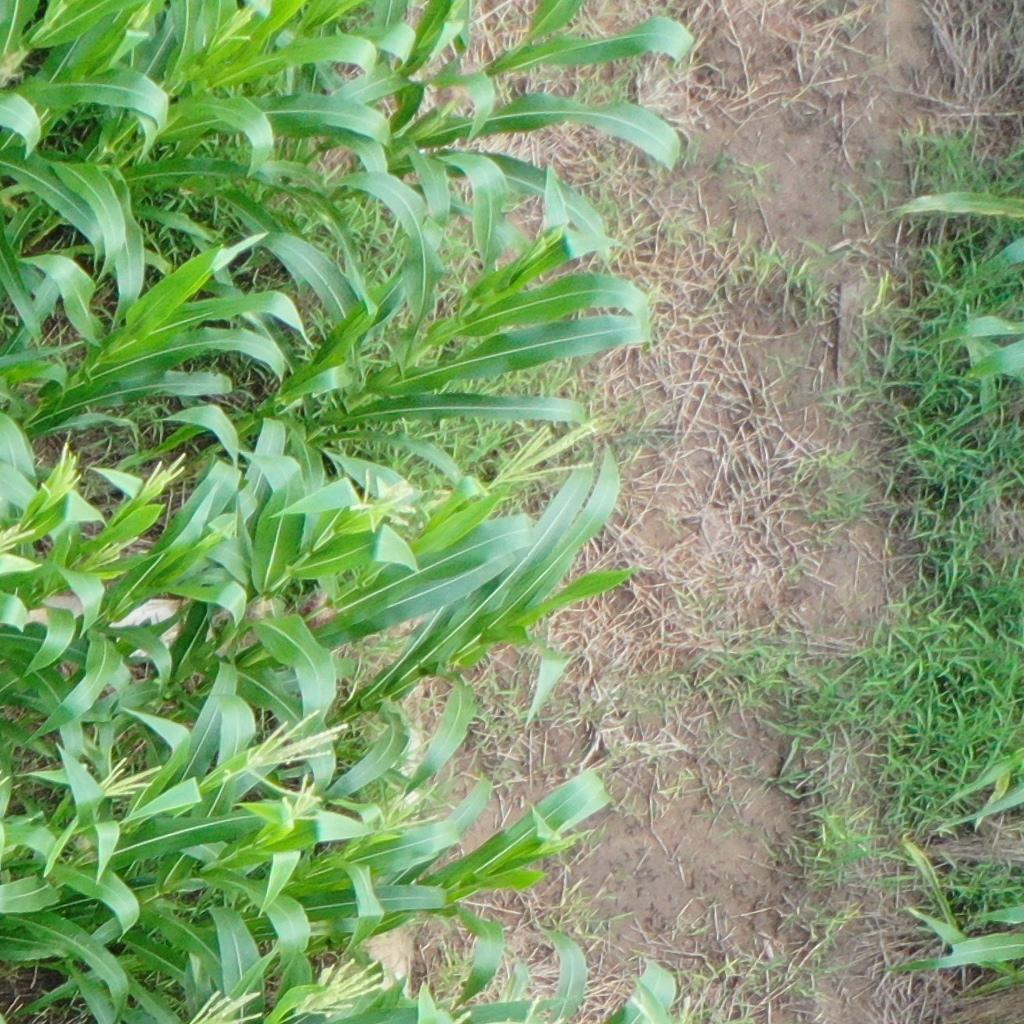Tassel: (233, 704, 353, 803), (491, 417, 613, 483), (339, 464, 425, 538), (368, 769, 443, 836), (310, 951, 392, 995), (95, 755, 163, 801), (43, 438, 86, 505), (279, 776, 326, 825), (142, 453, 193, 498), (91, 534, 144, 574), (217, 1, 261, 47), (540, 823, 594, 857), (517, 228, 565, 264), (198, 512, 237, 555), (1, 518, 37, 559), (126, 1, 155, 34), (48, 1, 73, 29)
